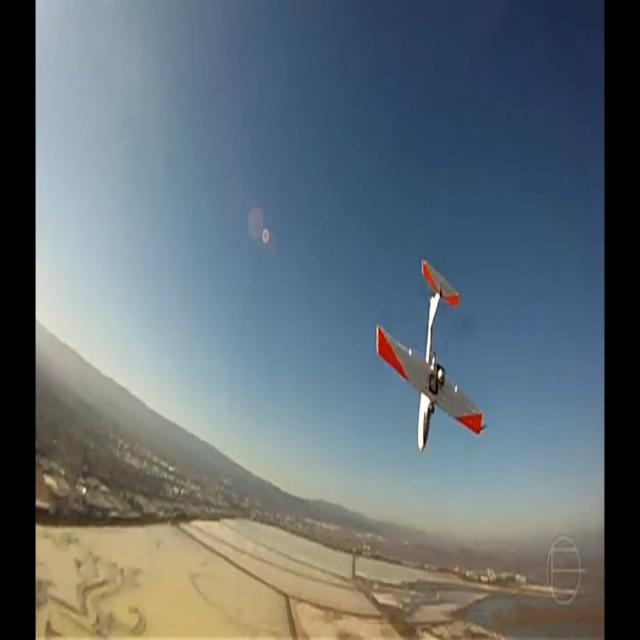iha: (407, 258, 456, 451)
